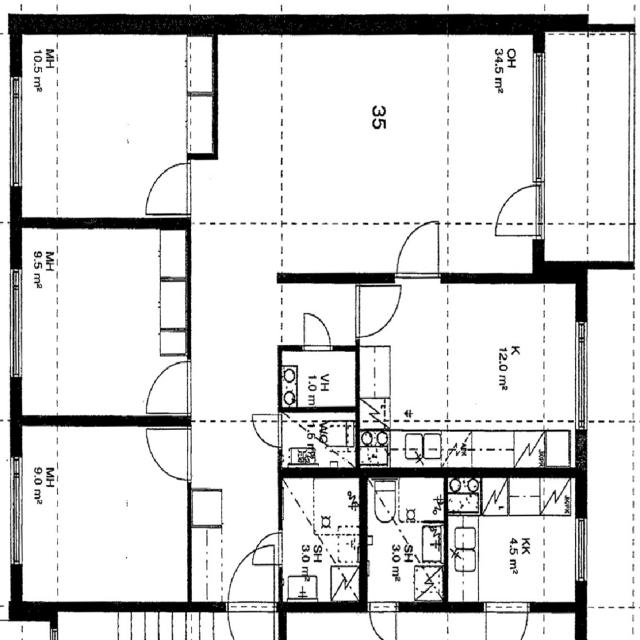door: (388, 214, 448, 286), (222, 557, 273, 640), (491, 176, 545, 240), (350, 278, 402, 342), (138, 155, 194, 214), (140, 354, 194, 414), (242, 526, 283, 605), (143, 422, 195, 483), (479, 599, 532, 640), (298, 308, 336, 352), (248, 527, 286, 570), (249, 409, 286, 448), (367, 600, 402, 640)
window: (523, 46, 552, 188), (2, 264, 30, 386), (2, 72, 30, 194), (3, 452, 30, 572), (568, 316, 594, 428), (479, 598, 532, 640), (572, 513, 591, 588), (39, 621, 66, 640)
zone: (353, 277, 586, 458), (15, 222, 192, 421), (24, 30, 199, 220), (15, 422, 192, 608), (447, 472, 579, 605), (280, 471, 361, 605), (365, 472, 446, 606), (278, 347, 358, 408), (280, 409, 358, 469)
